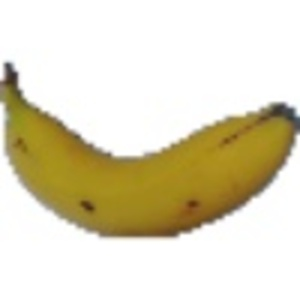banana: (2, 57, 297, 244)
